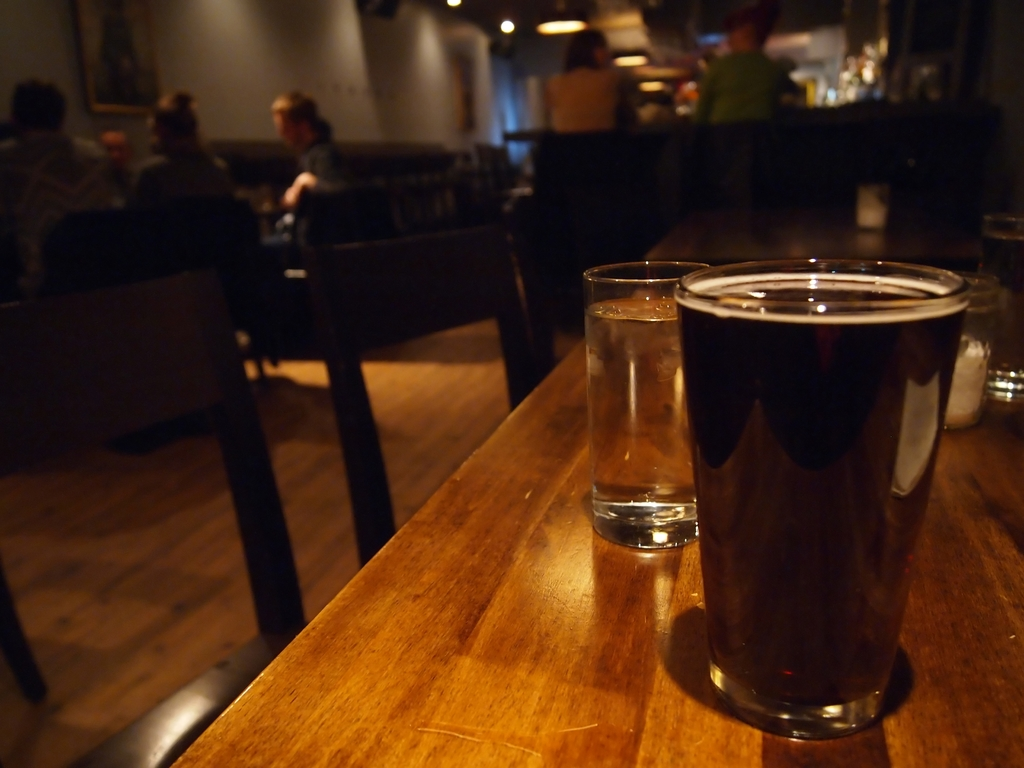Beer: (590, 299, 696, 522)
